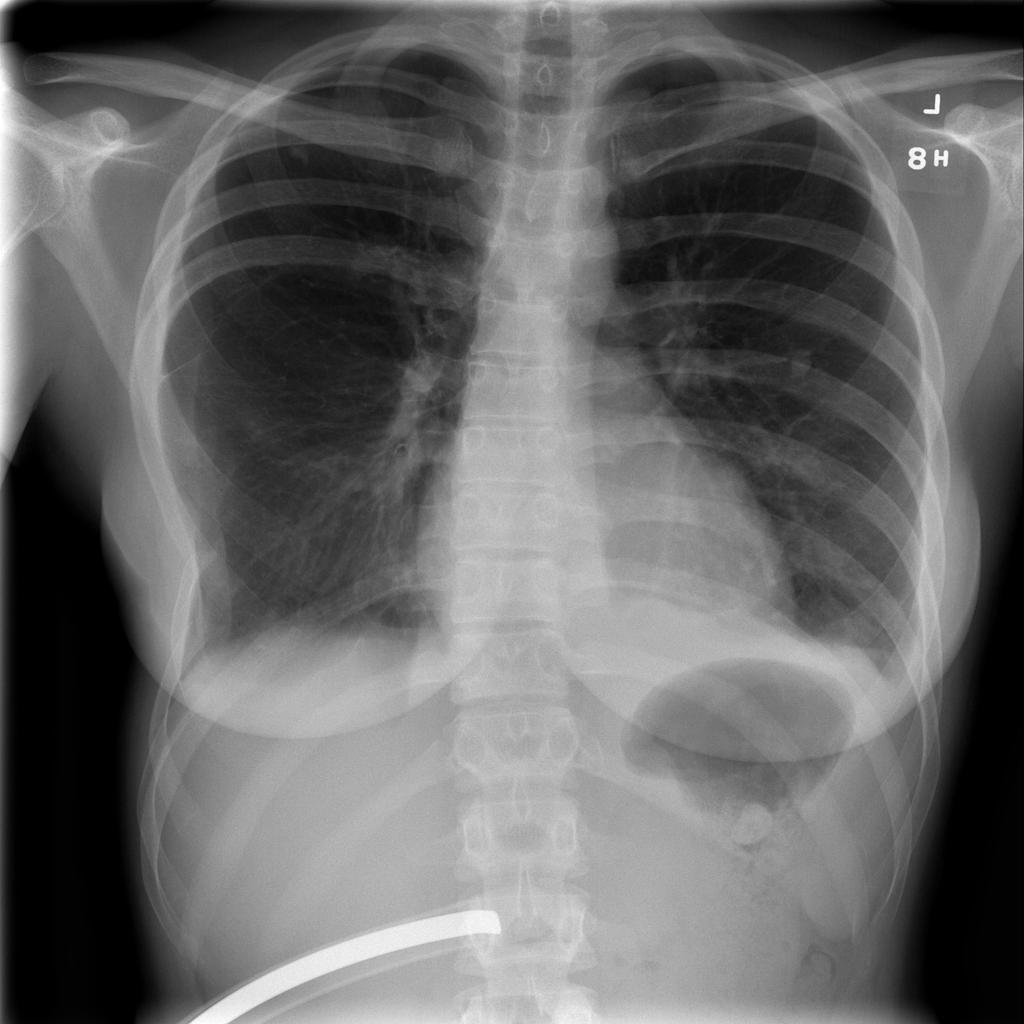nodule: (779, 337, 828, 390)
